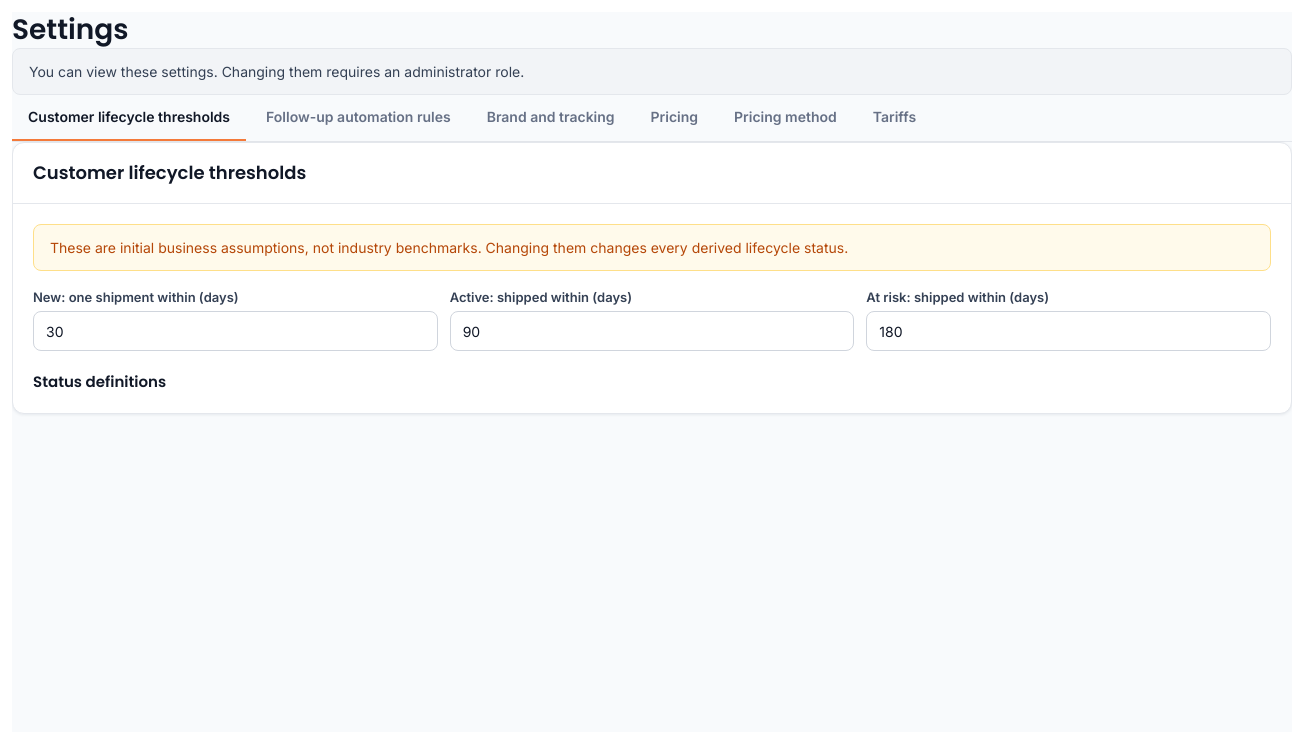
Test: Settings › Pricing › is offered with tariff:read and hidden without it
This screenshot has width=1292, height=732.
Click the tab "Pricing" at (674, 118), box top-left (635, 95), bottom-right (714, 141)
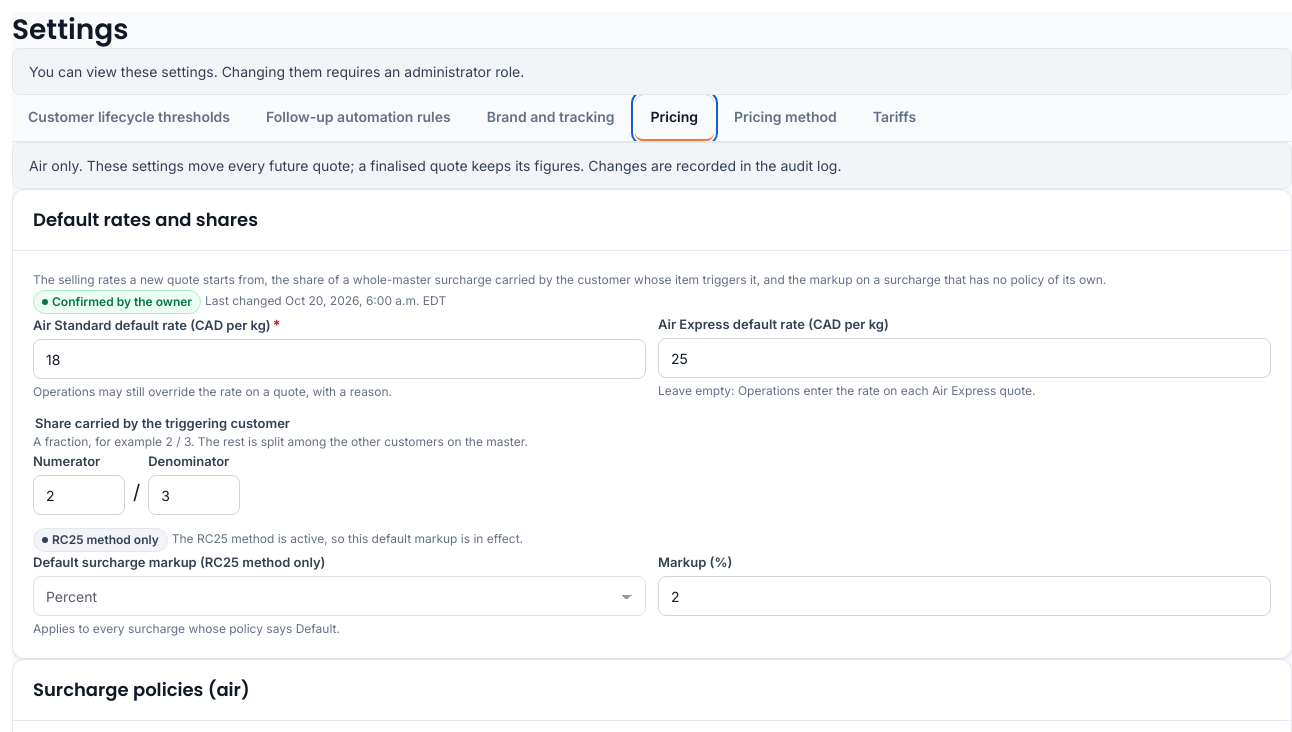
expect the tab "Tariffs" is shown: met, box top-left (857, 95), bottom-right (932, 141)
expect the field labelled "Air Standard default rate (CAD per kg)" holds "18": met, box top-left (33, 339), bottom-right (646, 379)
